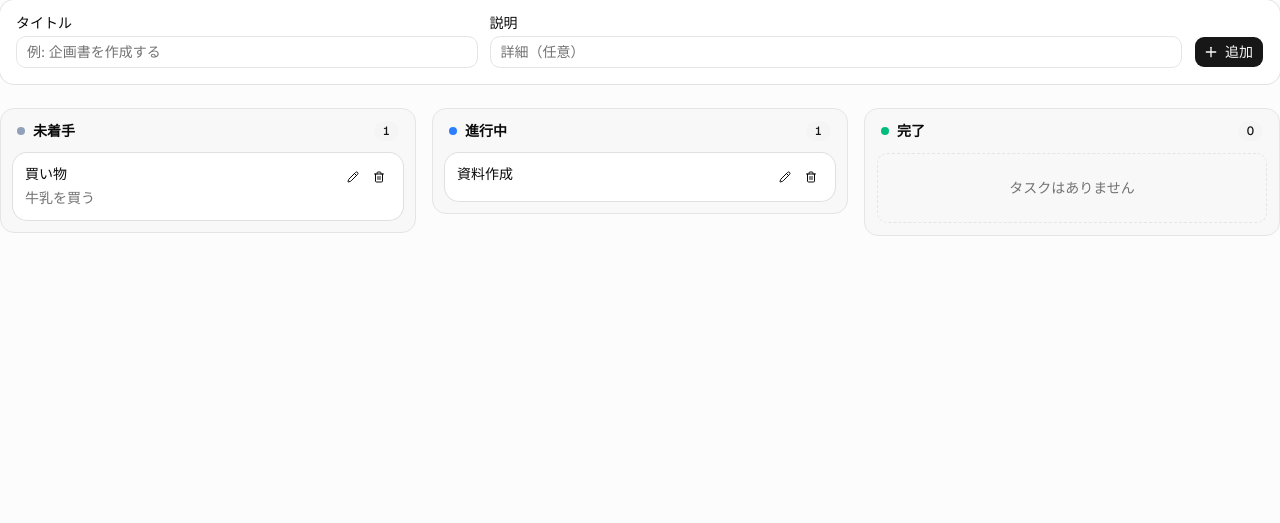
Scenario: 編集 › タイトルを空にして保存するとエラーが表示され編集フォームが残る
Click the button named "編集" in the row of "買い物" at (353, 177), box [341,165,365,189]
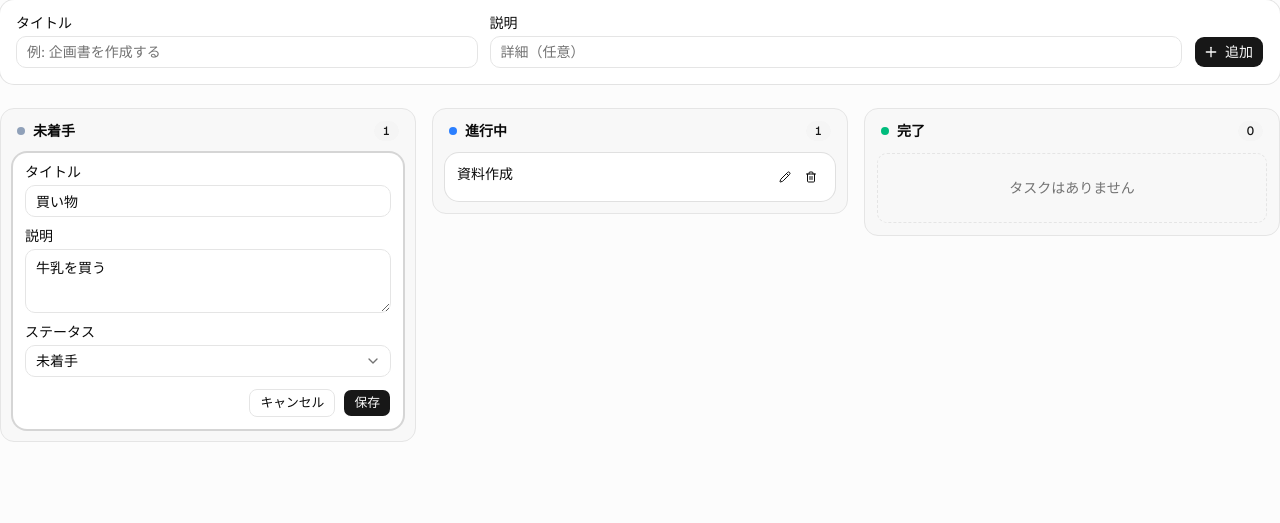
Clear the field labelled "タイトル" below "未着手" at (208, 201), box [25,185,391,217]
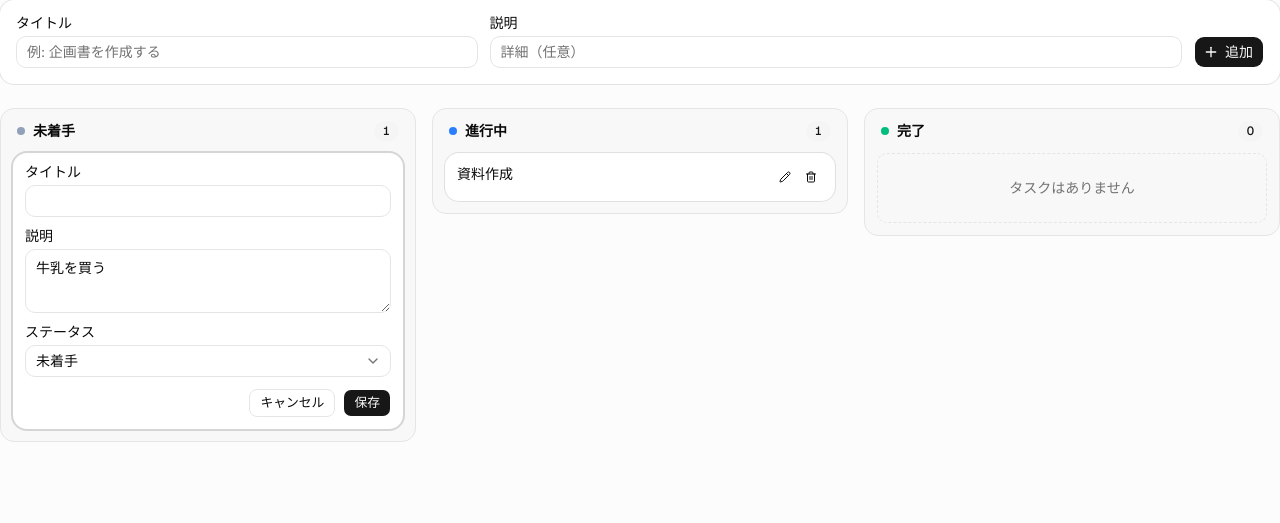
Click the button "保存" at (367, 403), box [343,389,391,417]
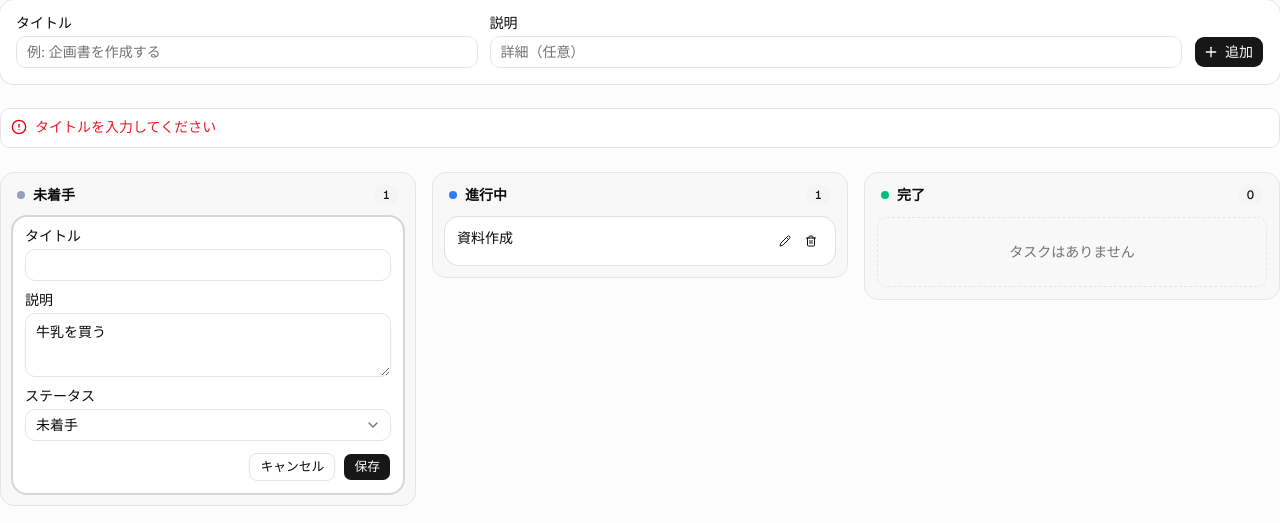
Expected: the form named "タスクを編集" is shown, [25,229,391,481]
Expected: the message reads "タイトルを入力してください", [35,118,216,136]
